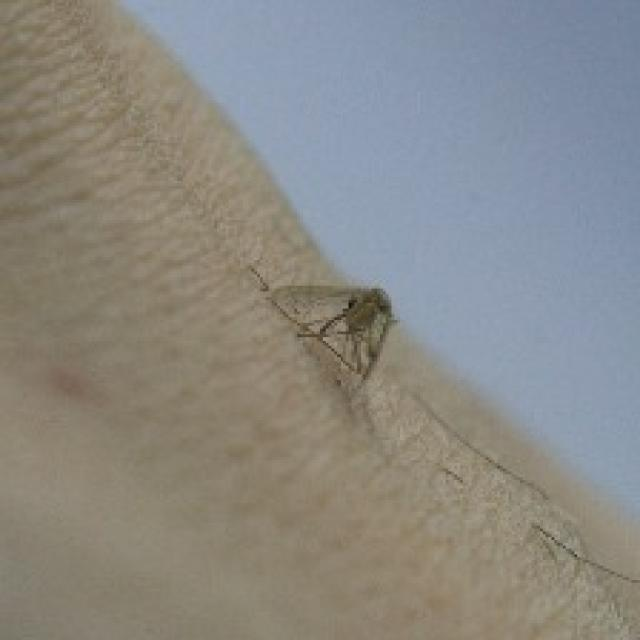culex: (246, 260, 397, 380)
